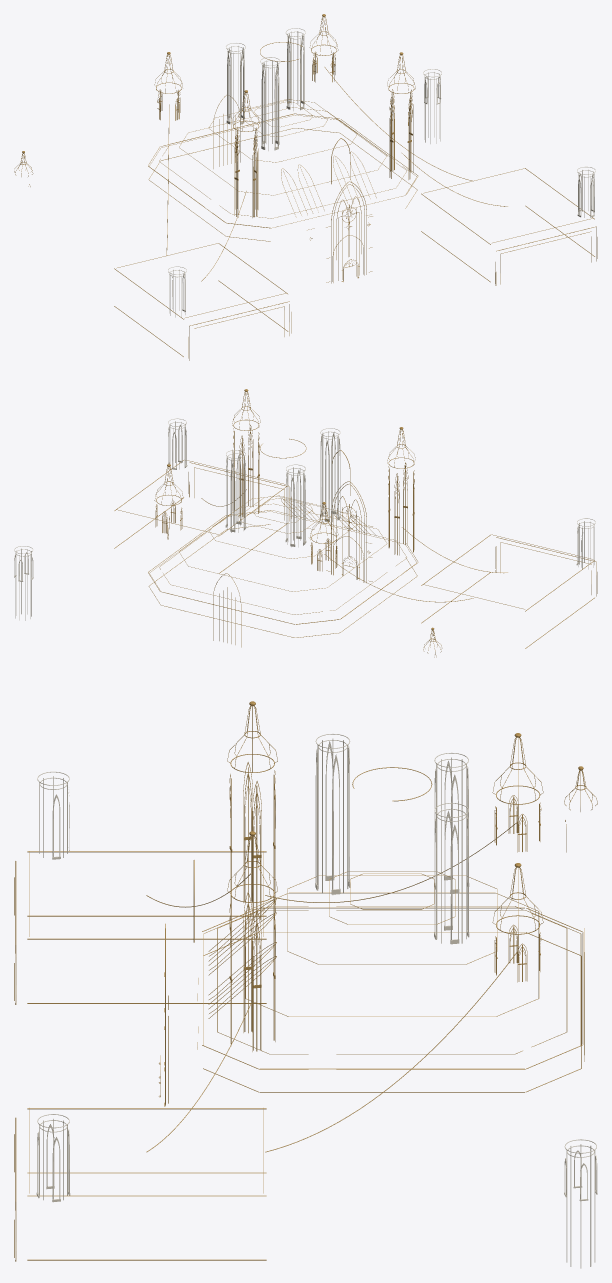
Rendered from Spaceport-03.glb.
3 views of the same model, one above another, from view 1: azimuth 30°, elevation 25°; view 2: azimuth 150°, elevation 25°; view 3: azimuth 270°, elevation 25° (orthographic). The views are drawn at different scales.
Visible parts, largest first — view 1: NSP01.Native.3.1.Gold, NSP01.Native.3.0.Ivory; view 2: NSP01.Native.3.1.Gold, NSP01.Native.3.0.Ivory; view 3: NSP01.Native.3.1.Gold, NSP01.Native.3.0.Ivory.
Part boxes in pixels (left/top/right/bottom): NSP01.Native.3.1.Gold: left=14, top=14, right=597, bottom=360; NSP01.Native.3.0.Ivory: left=168, top=28, right=595, bottom=317; NSP01.Native.3.1.Gold: left=114, top=389, right=597, bottom=657; NSP01.Native.3.0.Ivory: left=14, top=418, right=595, bottom=620; NSP01.Native.3.1.Gold: left=14, top=701, right=597, bottom=1261; NSP01.Native.3.0.Ivory: left=36, top=733, right=597, bottom=1268.
Bounding box in the file's own units: 483 × 205 × 334.
